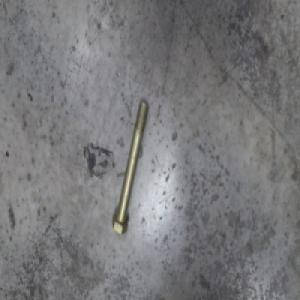Bolt: (111, 95, 150, 236)
